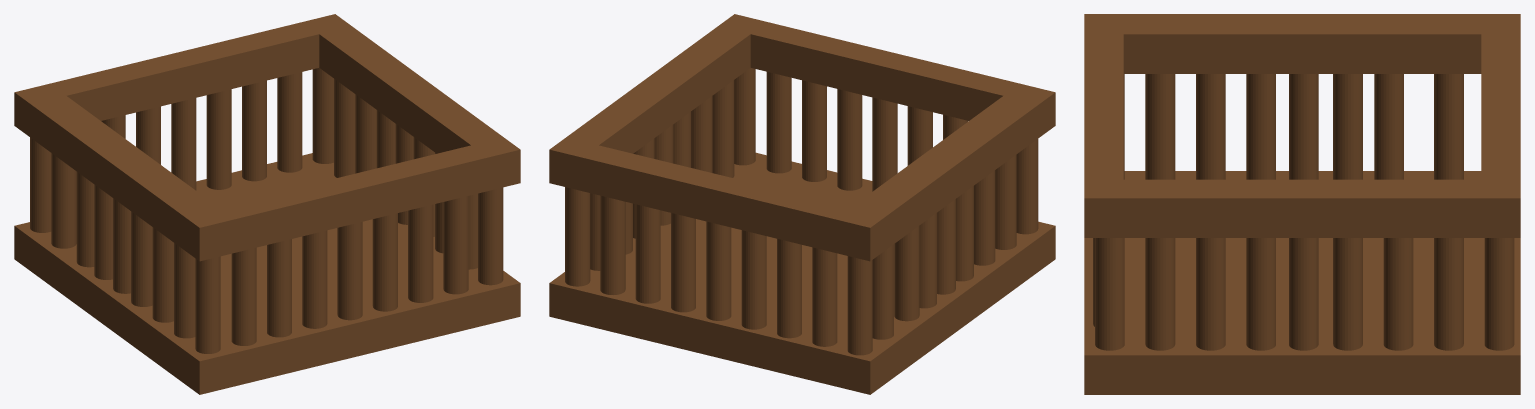
The model's file is saku.fbx.
The picture shows the model from 3 angles, left to right: view 1: azimuth 30°, elevation 25°; view 2: azimuth 150°, elevation 25°; view 3: azimuth 270°, elevation 25°; orthographic projection. The views are drawn at different scales.
Visible parts, largest first — view 1: 立方体.001, 立方体, 円柱.003, 円柱.001, 円柱.020, 円柱.022, 円柱.017, 円柱.019, 円柱.024, 円柱.018, 円柱.029, 円柱.033 (+19 smaller); view 2: 立方体.001, 立方体, 円柱.020, 円柱.018, 円柱.008, 円柱.005, 円柱.002, 円柱.007, 円柱.004, 円柱, 円柱.003, 円柱.019 (+18 smaller); view 3: 立方体.001, 立方体, 円柱.004, 円柱.032, 円柱.014, 円柱.031, 円柱.016, 円柱.030, 円柱.013, 円柱.015, 円柱.033, 円柱.028 (+6 smaller).
Boxes of the visible parts, bbox=[...] form: 立方体.001: bbox=[14, 14, 520, 261]; 立方体: bbox=[14, 153, 520, 394]; 円柱.003: bbox=[277, 72, 302, 172]; 円柱.001: bbox=[206, 89, 231, 189]; 円柱.020: bbox=[443, 196, 468, 294]; 円柱.022: bbox=[302, 230, 327, 328]; 円柱.017: bbox=[337, 222, 362, 320]; 円柱.019: bbox=[408, 204, 433, 302]; 円柱.024: bbox=[231, 247, 256, 345]; 円柱.018: bbox=[372, 213, 397, 311]; 円柱.029: bbox=[195, 256, 220, 353]; 円柱.033: bbox=[478, 187, 503, 285]; 立方体.001: bbox=[549, 14, 1055, 261]; 立方体: bbox=[549, 152, 1055, 394]; 円柱.020: bbox=[766, 72, 791, 173]; 円柱.018: bbox=[837, 89, 862, 190]; 円柱.008: bbox=[847, 256, 872, 355]; 円柱.005: bbox=[741, 230, 766, 329]; 円柱.002: bbox=[635, 204, 660, 303]; 円柱.007: bbox=[812, 247, 837, 346]; 円柱.004: bbox=[565, 187, 590, 286]; 円柱: bbox=[706, 221, 731, 320]; 円柱.003: bbox=[600, 195, 625, 294]; 円柱.019: bbox=[802, 80, 826, 181]; 立方体.001: bbox=[1084, 14, 1520, 237]; 立方体: bbox=[1084, 171, 1520, 394]; 円柱.004: bbox=[1484, 238, 1514, 350]; 円柱.032: bbox=[1145, 238, 1175, 350]; 円柱.014: bbox=[1383, 238, 1413, 350]; 円柱.031: bbox=[1196, 238, 1225, 350]; 円柱.016: bbox=[1289, 238, 1318, 350]; 円柱.030: bbox=[1246, 238, 1275, 350]; 円柱.013: bbox=[1434, 238, 1463, 350]; 円柱.015: bbox=[1333, 238, 1362, 350]; 円柱.033: bbox=[1095, 238, 1124, 350]; 円柱.028: bbox=[1145, 74, 1175, 179].
Size of the model in its own units: 2000 by 995 by 2000.
